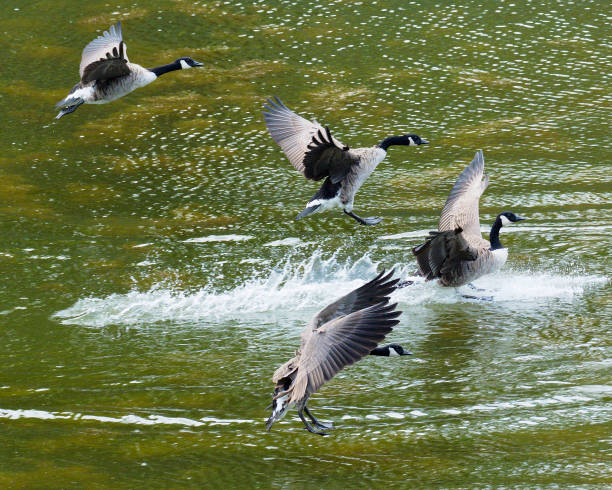goose: (262, 265, 417, 443), (254, 92, 433, 232), (407, 144, 529, 290), (47, 20, 206, 127)
